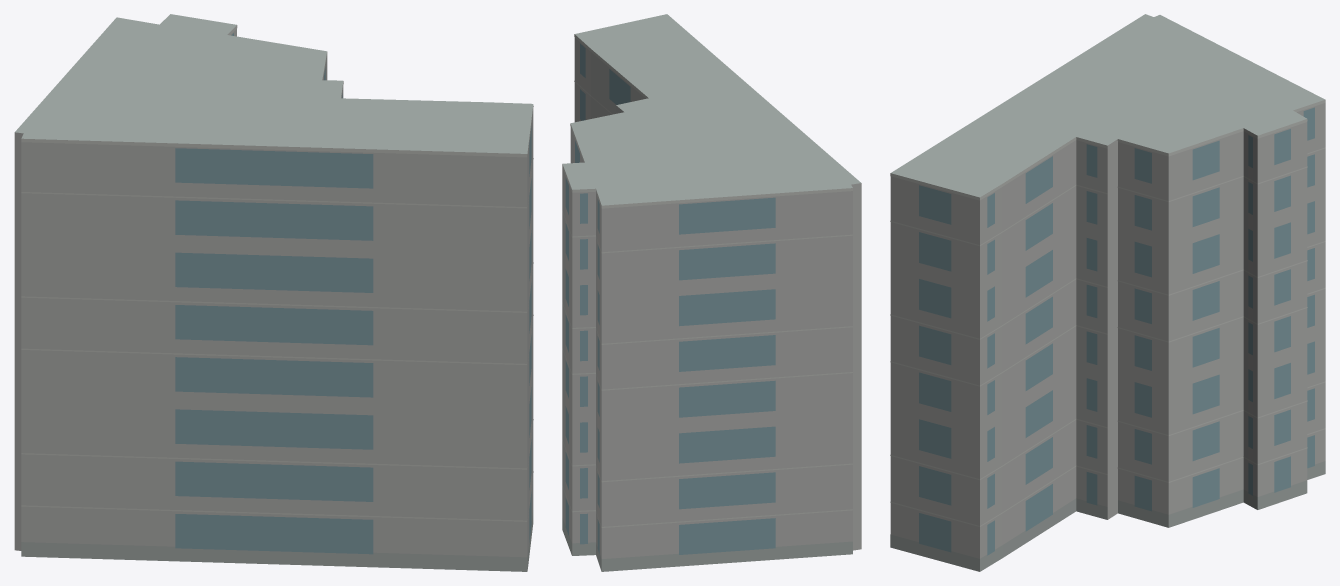
The model's file is survey-upis-32645903.glb.
The picture shows the model from 3 angles, left to right: view 1: azimuth 30°, elevation 25°; view 2: azimuth 150°, elevation 25°; view 3: azimuth 270°, elevation 25°; orthographic projection. The views are drawn at different scales.
Visible parts, largest first — view 1: survey-upis-32645903.tmp; view 2: survey-upis-32645903.tmp; view 3: survey-upis-32645903.tmp.
Part boxes in pixels (x1,y1,x2,y2): survey-upis-32645903.tmp: [14, 14, 533, 571]; survey-upis-32645903.tmp: [562, 14, 861, 571]; survey-upis-32645903.tmp: [890, 14, 1325, 571].
Bounding box in the file's own units: 31.13 × 29.6 × 31.19.
